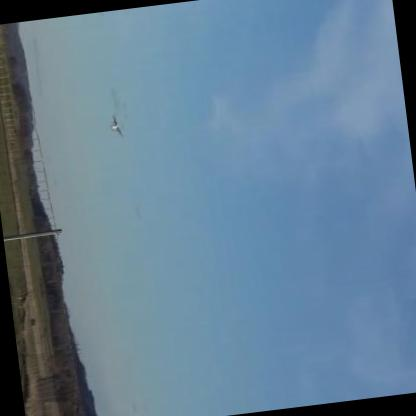plane: (106, 112, 123, 141)
